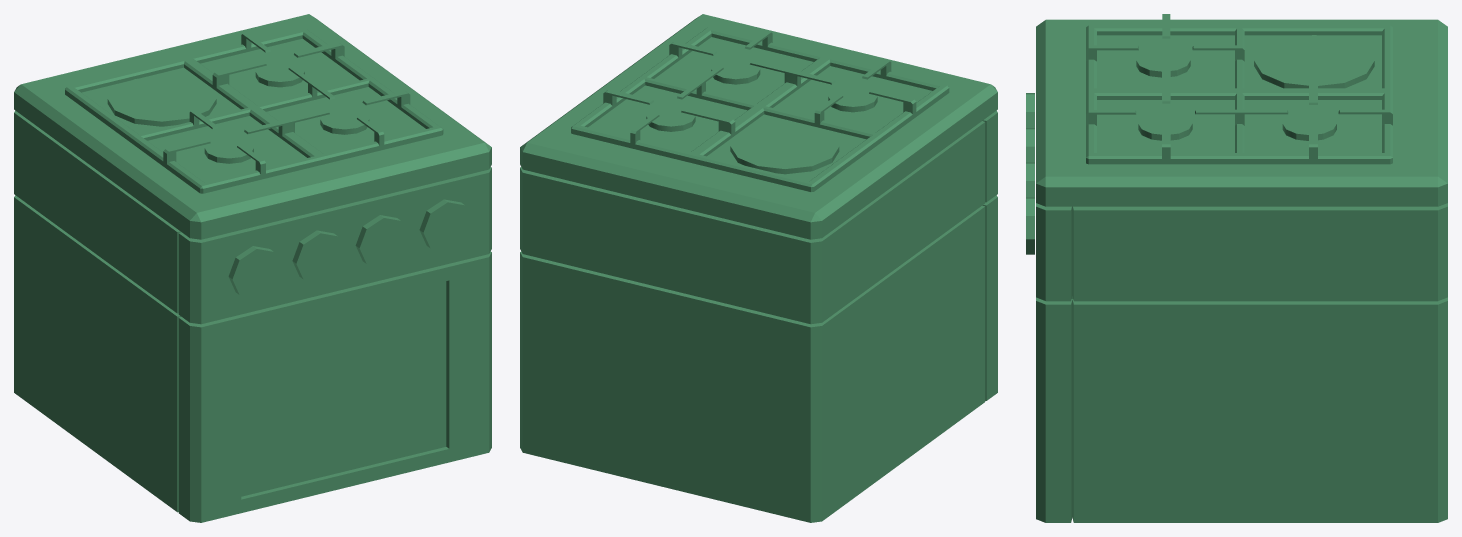
File: Big_Oven_V4.fbx
3 renders of one model, left to right at view 1: azimuth 30°, elevation 25°; view 2: azimuth 150°, elevation 25°; view 3: azimuth 270°, elevation 25°, orthographic. The views are drawn at different scales.
Parts seen in each view (by area): view 1: Big_Oven; view 2: Big_Oven; view 3: Big_Oven.
Part boxes in pixels (x1,y1,x2,y2): Big_Oven: [14, 14, 491, 522]; Big_Oven: [520, 14, 997, 522]; Big_Oven: [1026, 14, 1447, 522].
Bounding box in the file's own units: 121 × 124 × 131.
